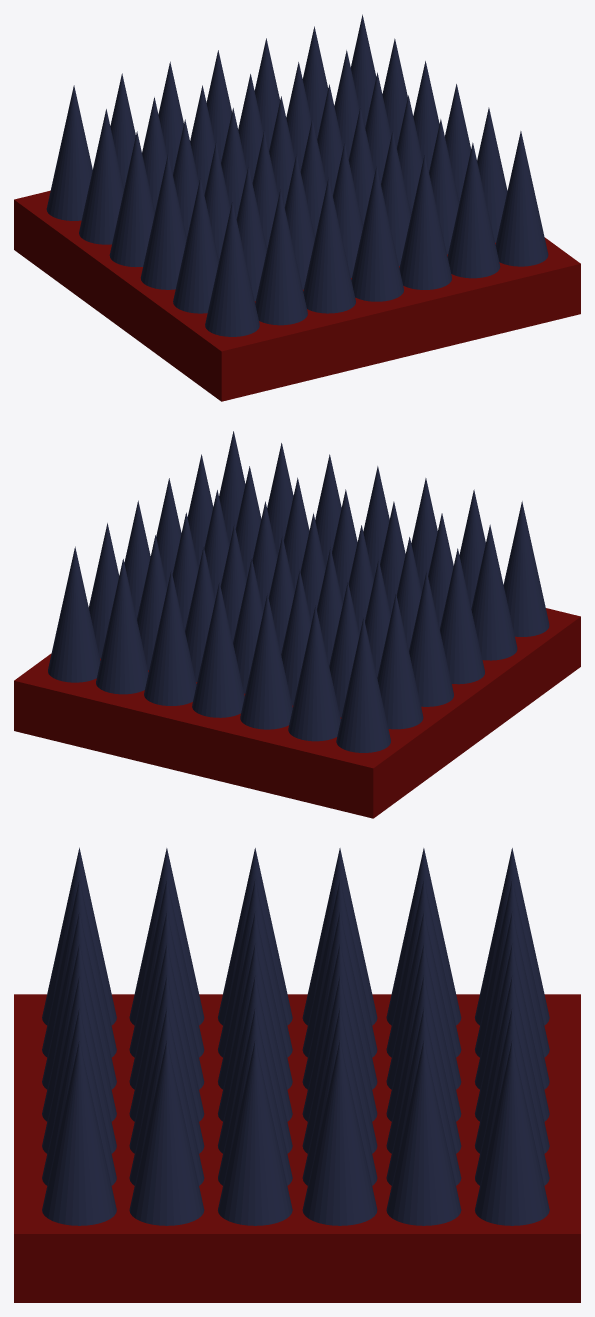
Rendered from Spike_trap.fbx.
The picture shows the model from 3 angles, top to bottom: view 1: azimuth 30°, elevation 25°; view 2: azimuth 150°, elevation 25°; view 3: azimuth 270°, elevation 25°; orthographic projection. The views are drawn at different scales.
Parts seen in each view (by area): view 1: Cube, Cone, Cone.002, Cone.003, Cone.004, Cone.006, Cone.005; view 2: Cube, Cone.006, Cone.005, Cone.004, Cone, Cone.002, Cone.003; view 3: Cube, Cone.002, Cone.005, Cone, Cone.004, Cone.003, Cone.006.
Boxes of the visible parts, x1,y1,x2,y2 form: Cube: (14,190,580,401); Cone: (205,131,548,336); Cone.002: (173,107,507,313); Cone.003: (140,84,471,289); Cone.004: (109,61,439,267); Cone.006: (46,14,376,220); Cone.005: (79,38,407,244); Cube: (14,608,580,818); Cone.006: (48,546,390,752); Cone.005: (88,523,423,729); Cone.004: (124,500,453,706); Cone: (219,431,549,636); Cone.002: (187,454,517,660); Cone.003: (156,478,484,684); Cube: (14,994,580,1302); Cone.002: (129,848,204,1225); Cone.005: (386,848,461,1225); Cone: (42,847,116,1225); Cone.004: (302,848,377,1225); Cone.003: (218,848,292,1225); Cone.006: (475,848,549,1225).
Size of the model in its own units: 1495 by 696 by 1495.
